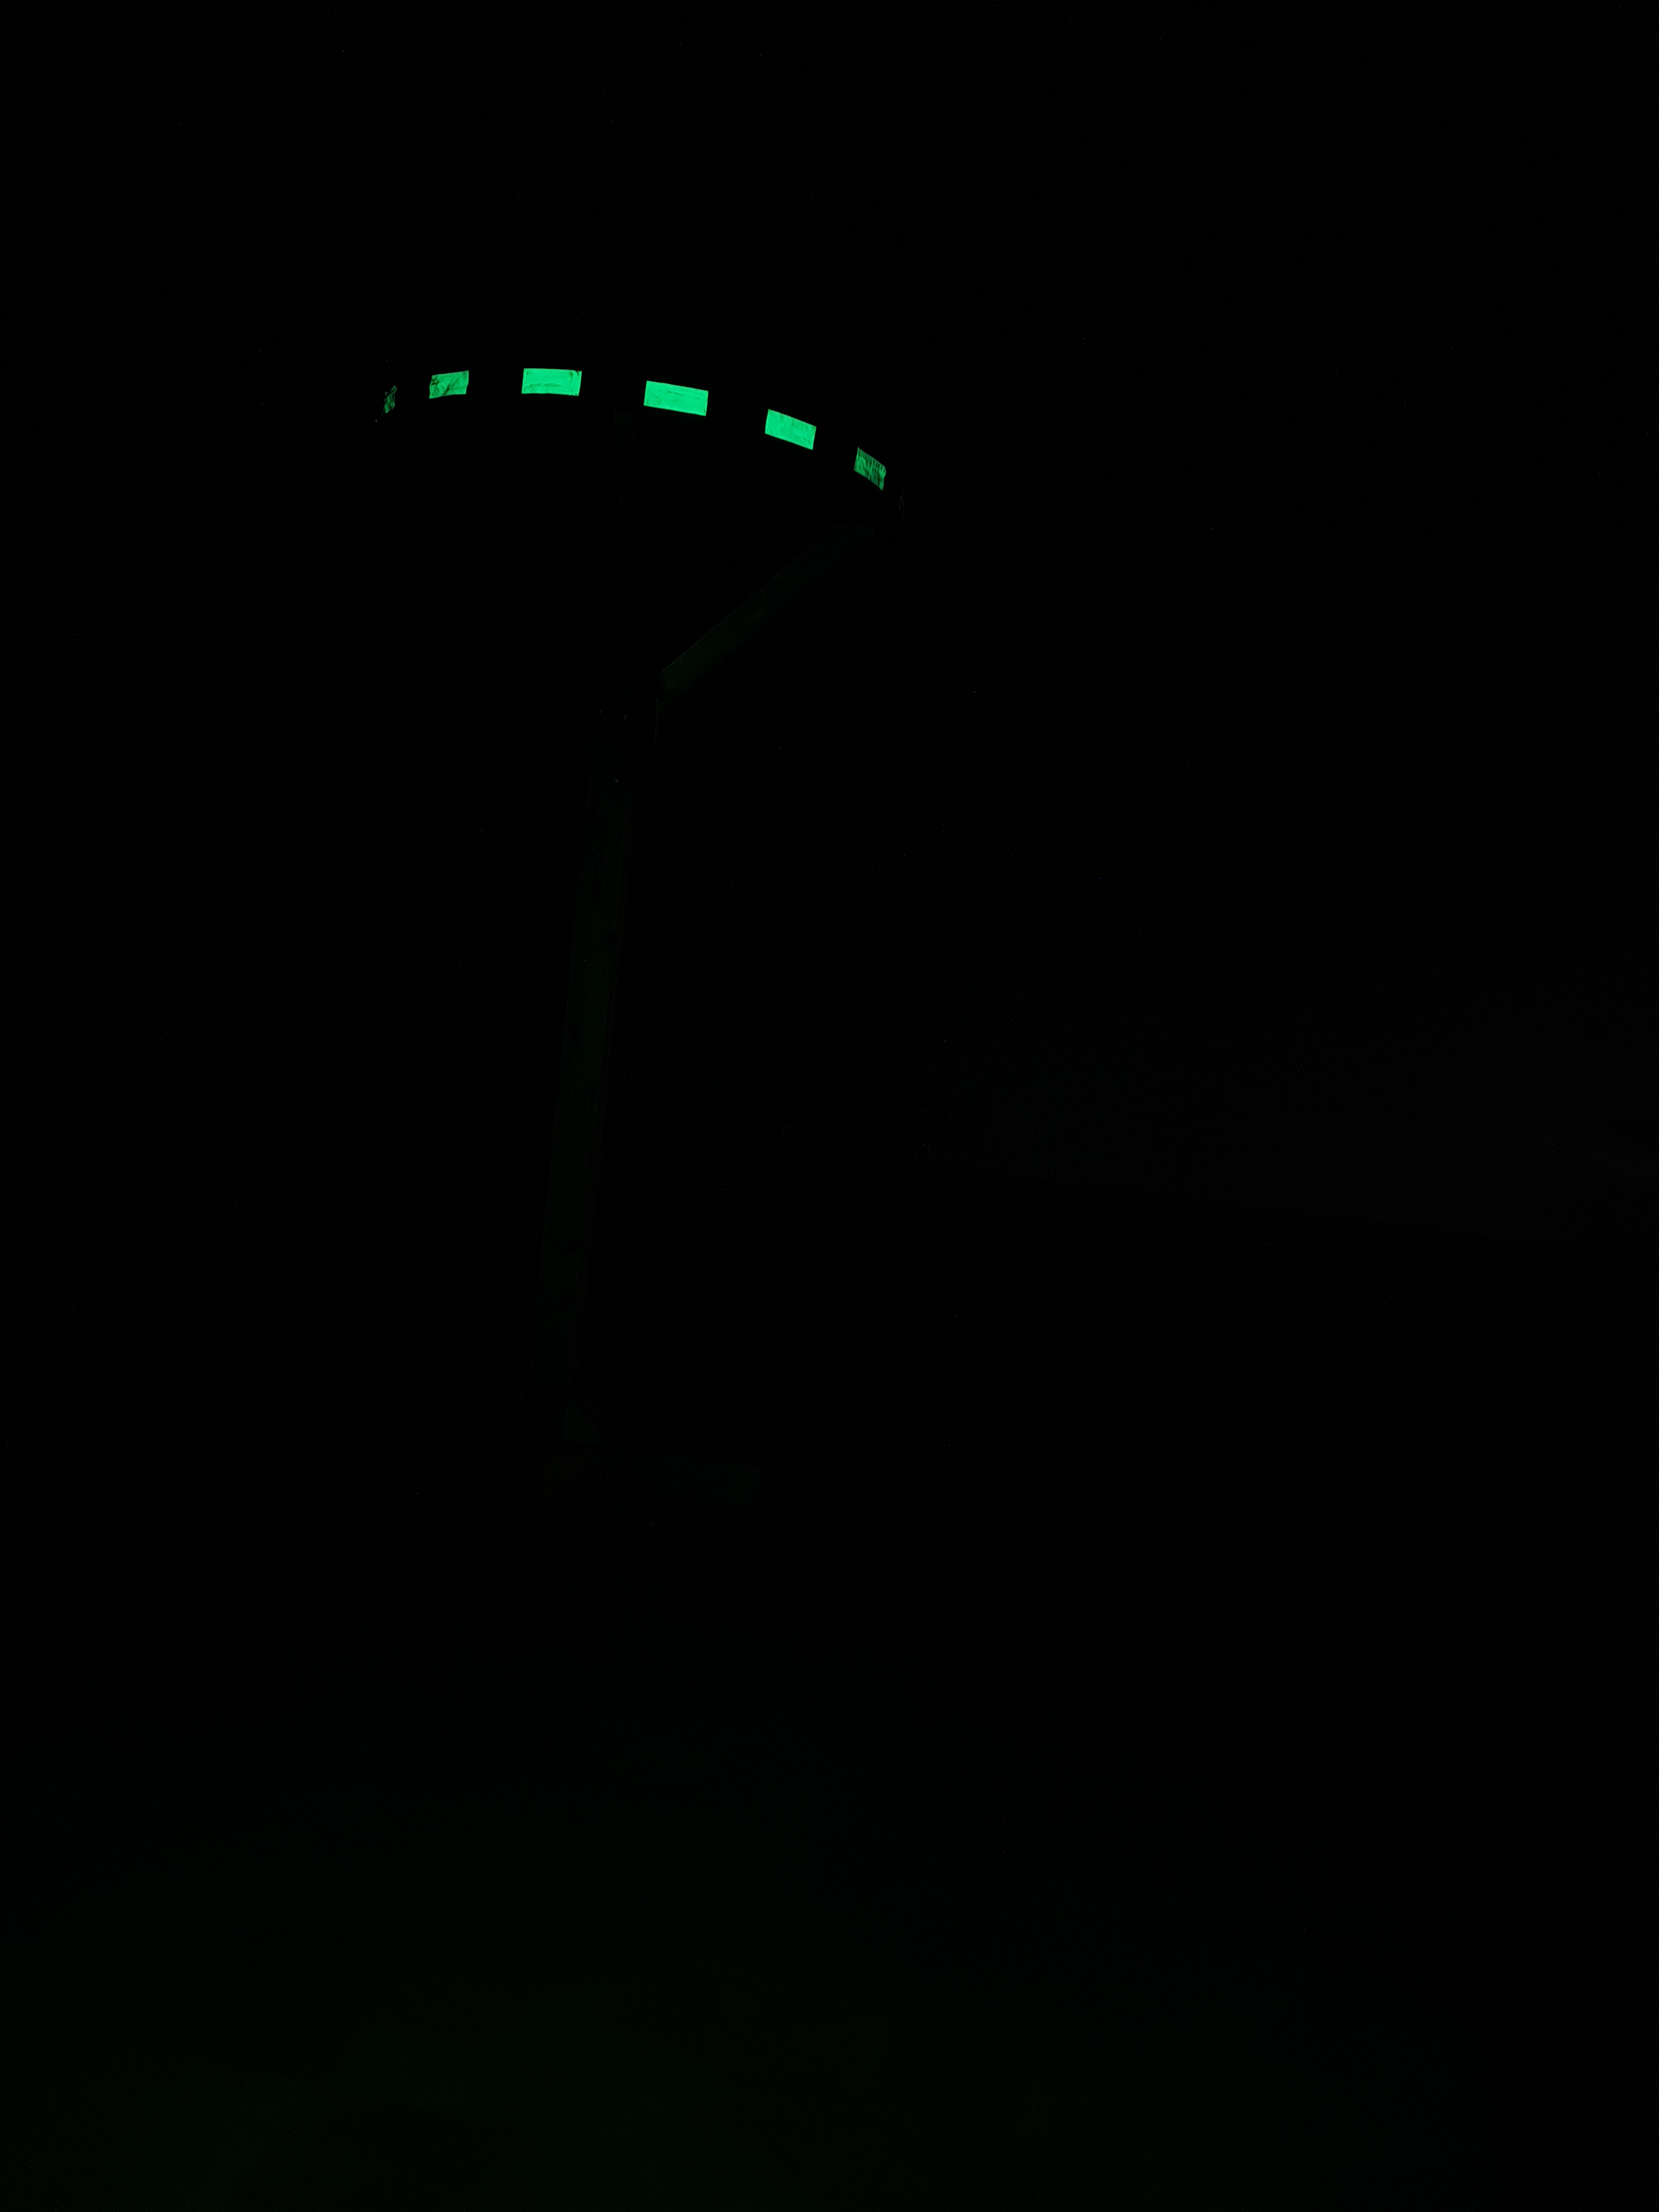hoop: (375, 361, 892, 491)
